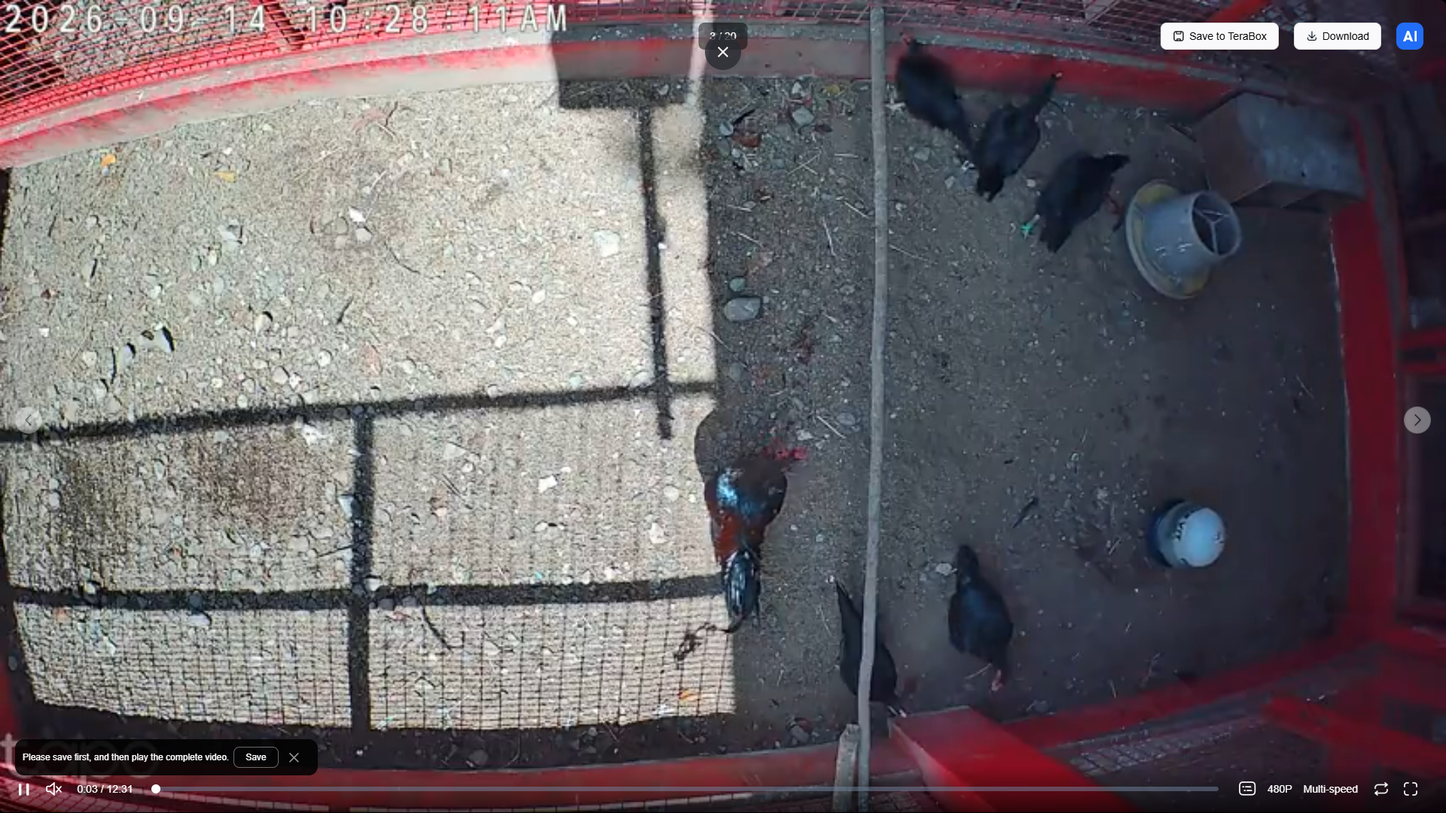Chicken: (950, 542, 1033, 712), (830, 578, 922, 729), (963, 67, 1066, 201), (1018, 149, 1135, 254), (884, 21, 975, 147)
Drinker: (1146, 499, 1231, 572)
Feeder: (1125, 172, 1244, 299)
Leg_Band_Green: (1020, 222, 1034, 234)
Leg_Band_White: (961, 158, 971, 172)
Rooster: (709, 441, 809, 641)
